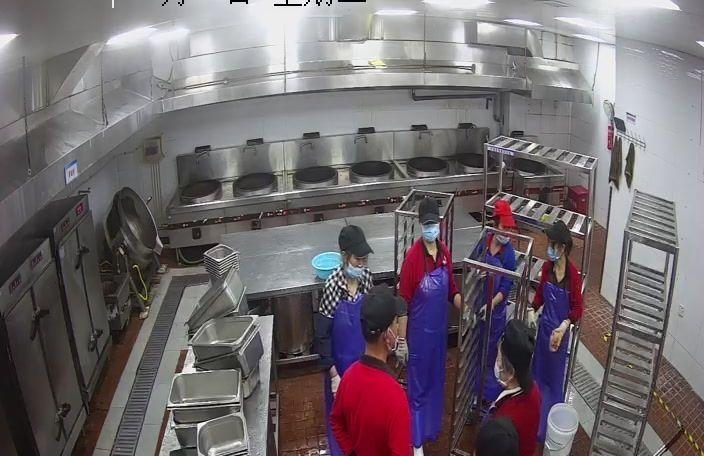mask: (344, 260, 366, 278)
